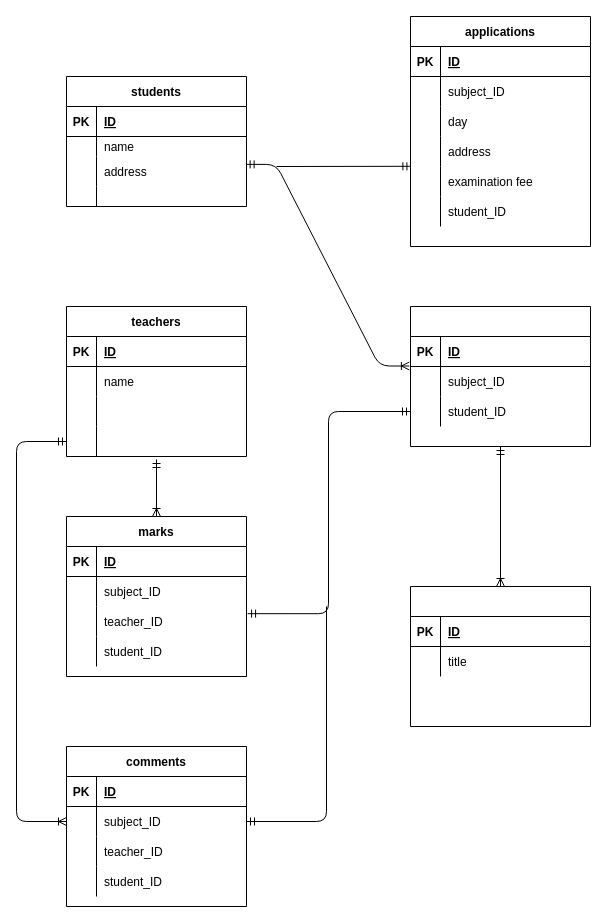
The diagram is 607 pixels wide and 923 high, and some of its shapes have lost their labels. The shapes that lost their labels are listed below. From the top down, each one's box as (x1, y1, x2, y2) in pixels, then its label:
(410, 306, 590, 446): tests
(410, 586, 590, 726): subjects
